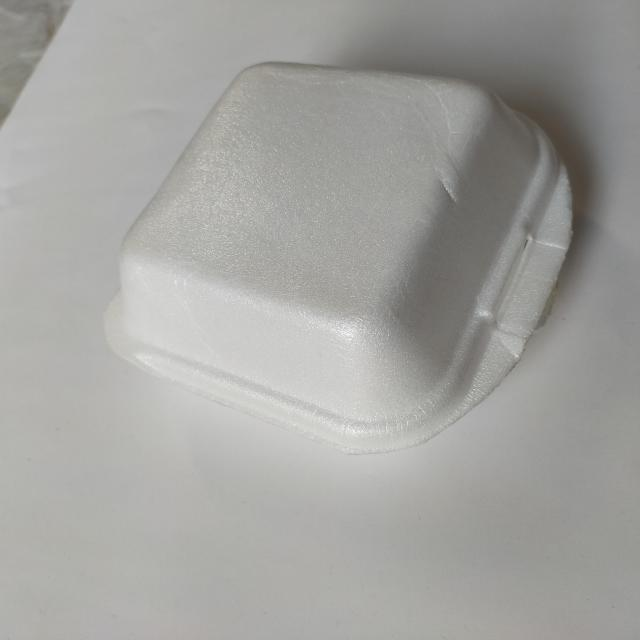styrofoam: (102, 59, 575, 456)
